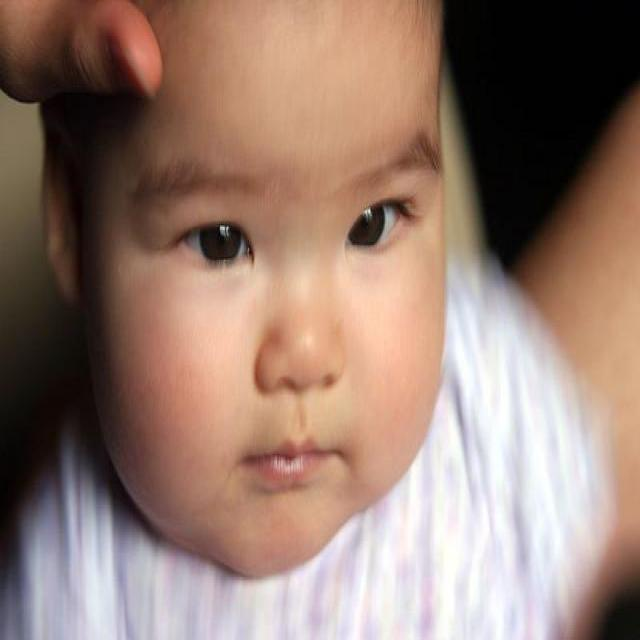no-glass: (170, 185, 414, 267)
